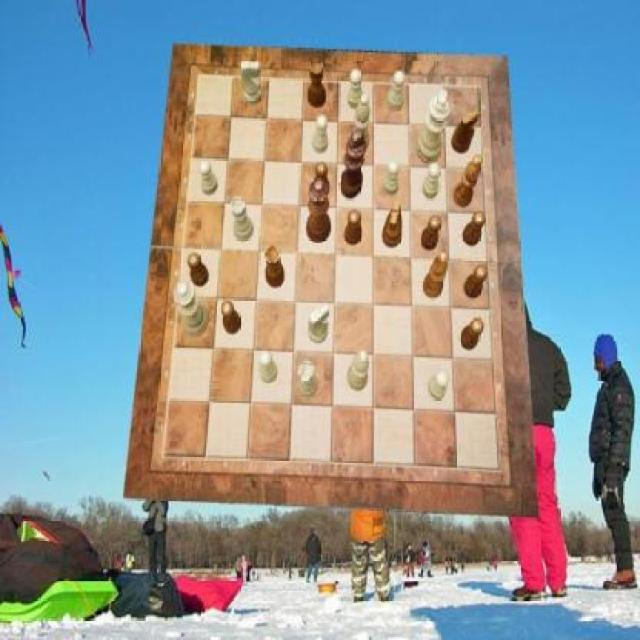bishop: (454, 156, 483, 210), (423, 252, 448, 300)
black-bishop: (340, 128, 368, 198)
black-king: (451, 108, 478, 153), (383, 198, 403, 248)
black-knight: (463, 211, 486, 247), (464, 264, 488, 298), (186, 252, 209, 287), (460, 318, 484, 351), (222, 300, 242, 335), (422, 215, 442, 250), (345, 210, 362, 246), (314, 162, 331, 198)
black-pawn: (306, 178, 331, 244)
black-queen: (308, 60, 327, 109), (266, 245, 286, 287)
black-rook: (351, 94, 371, 151), (346, 349, 369, 391)
white-bishop: (417, 89, 452, 164)
white-king: (308, 303, 330, 345), (242, 61, 262, 106)
white-knight: (198, 160, 218, 195), (388, 71, 405, 112), (258, 350, 278, 384), (422, 162, 439, 199), (312, 115, 328, 154), (428, 369, 448, 400), (348, 69, 363, 109), (383, 160, 400, 195)
white-pawn: (172, 279, 208, 336)
white-queen: (230, 195, 254, 241), (298, 362, 318, 399)
